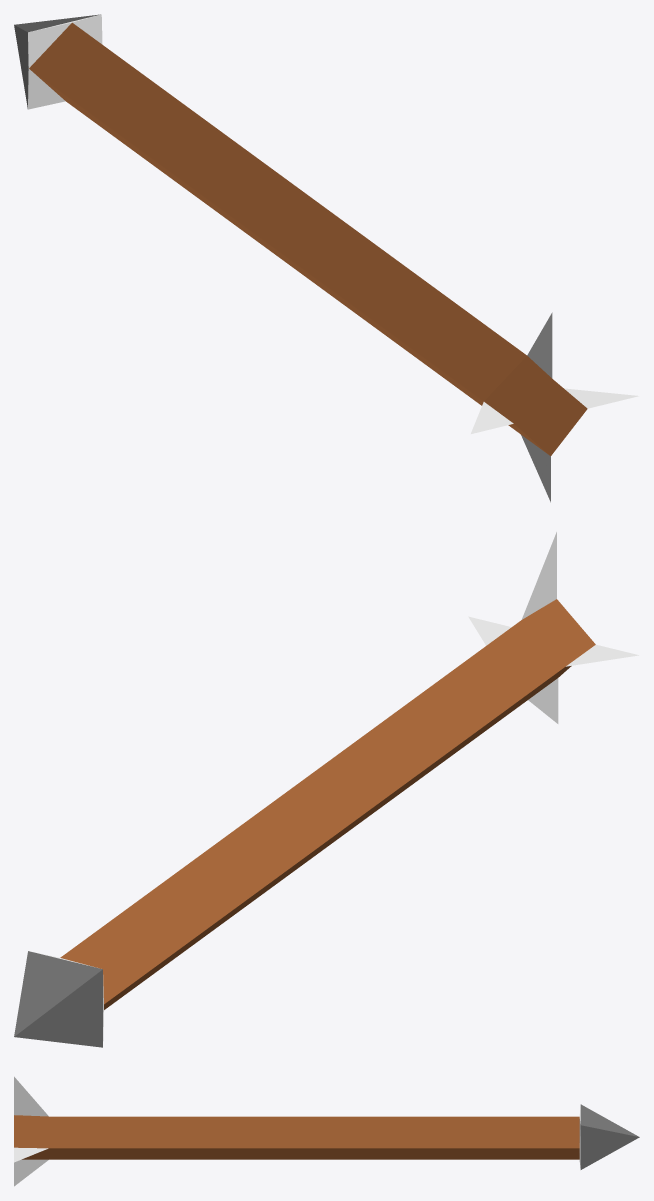
File: arrow.glb
3 views of the same model, one above another, from view 1: azimuth 30°, elevation 25°; view 2: azimuth 150°, elevation 25°; view 3: azimuth 270°, elevation 25° (orthographic). The views are drawn at different scales.
Visible parts, largest first — view 1: Cube; view 2: Cube; view 3: Cube.
Part boxes in pixels (<box>): Cube: <box>14,14,638,502</box>; Cube: <box>14,532,638,1047</box>; Cube: <box>14,1076,639,1186</box>.
Bounding box in the file's own units: 0.5737 × 0.6152 × 3.15.
